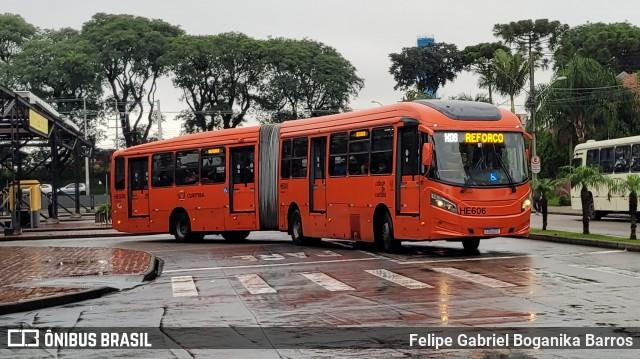REFORCO: (461, 130, 508, 145)
